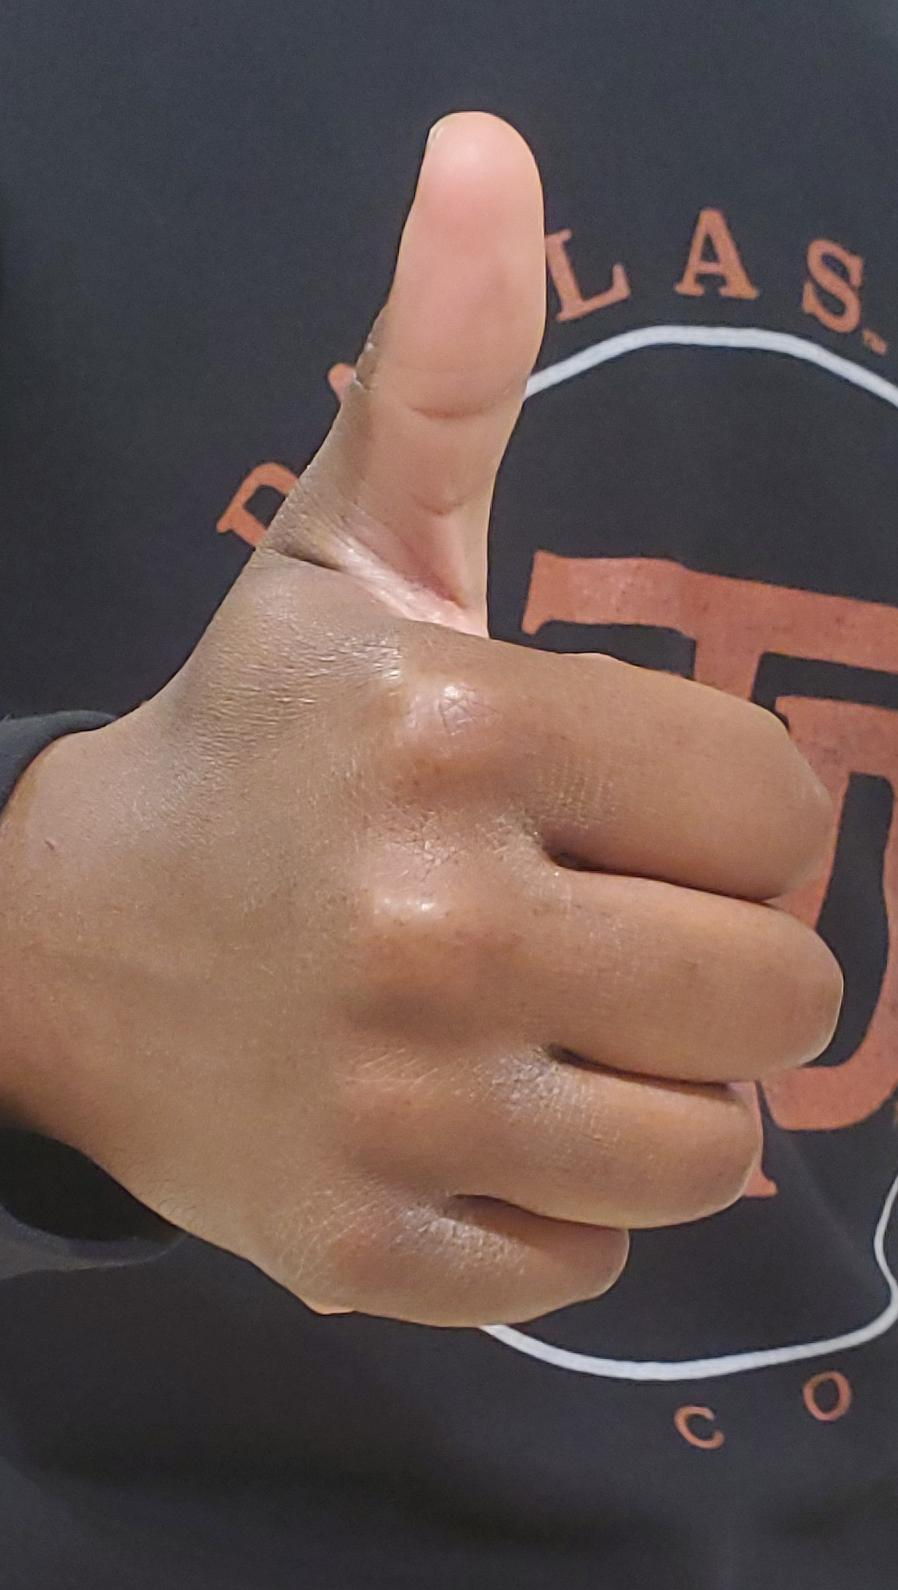up: (0, 1, 898, 1590)
